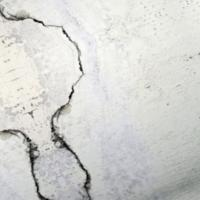crack: (0, 2, 102, 199)
